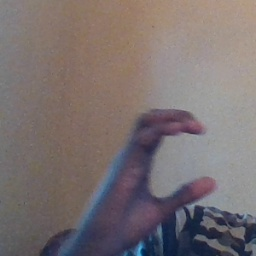C: (110, 103, 223, 220)
